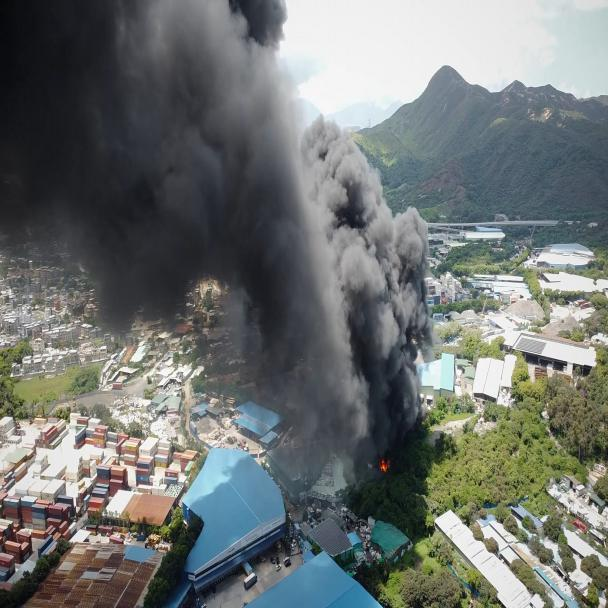Fire: (342, 429, 448, 503)
smoke: (3, 0, 497, 360)
